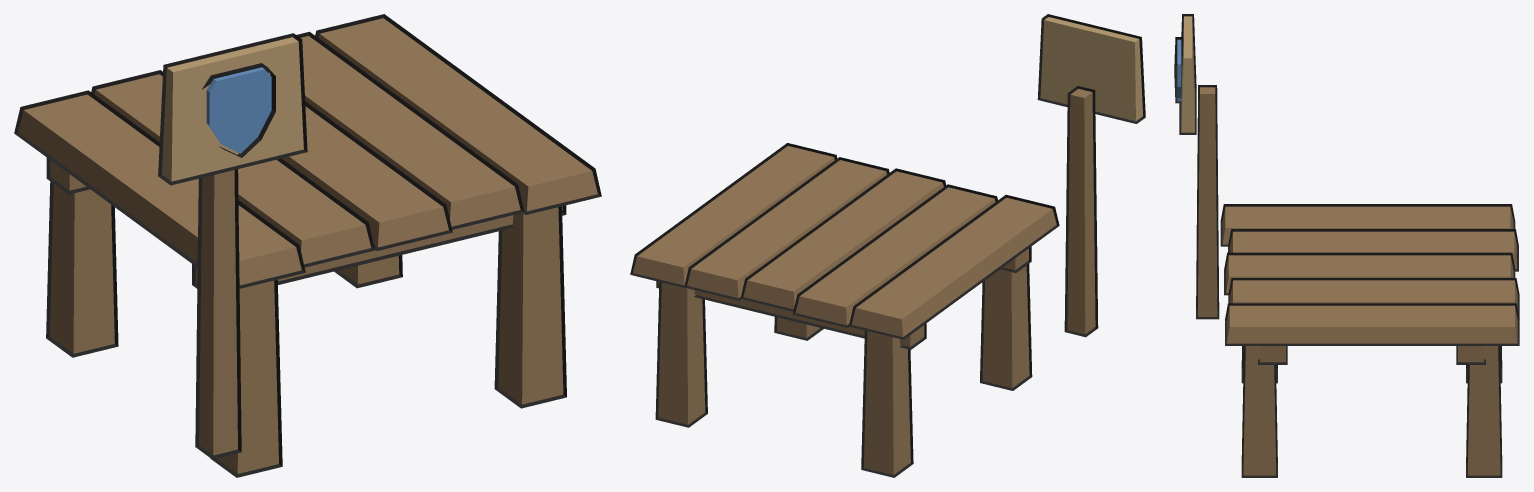
Rendered from td_placement.fbx.
3 views of the same model, side by side, from view 1: azimuth 30°, elevation 25°; view 2: azimuth 150°, elevation 25°; view 3: azimuth 270°, elevation 25° (orthographic). The views are drawn at different scales.
Visible parts, largest first — view 1: Prop_GuardPost; view 2: Prop_GuardPost; view 3: Prop_GuardPost.
Part boxes in pixels (x1=…): Prop_GuardPost: x1=14, y1=14, x2=601, y2=477; Prop_GuardPost: x1=630, y1=14, x2=1145, y2=477; Prop_GuardPost: x1=1174, y1=14, x2=1519, y2=477.
Bounding box in the file's own units: 140 × 134 × 132.
